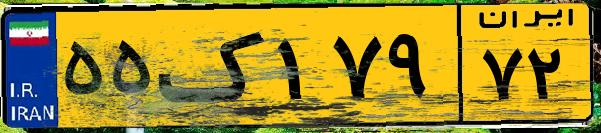1: (270, 28, 330, 110)
2: (525, 38, 570, 115)
5: (57, 26, 110, 100), (110, 28, 158, 98)
7: (330, 28, 385, 110), (475, 38, 525, 113)
9: (385, 28, 445, 110)
ک: (158, 12, 270, 120)
